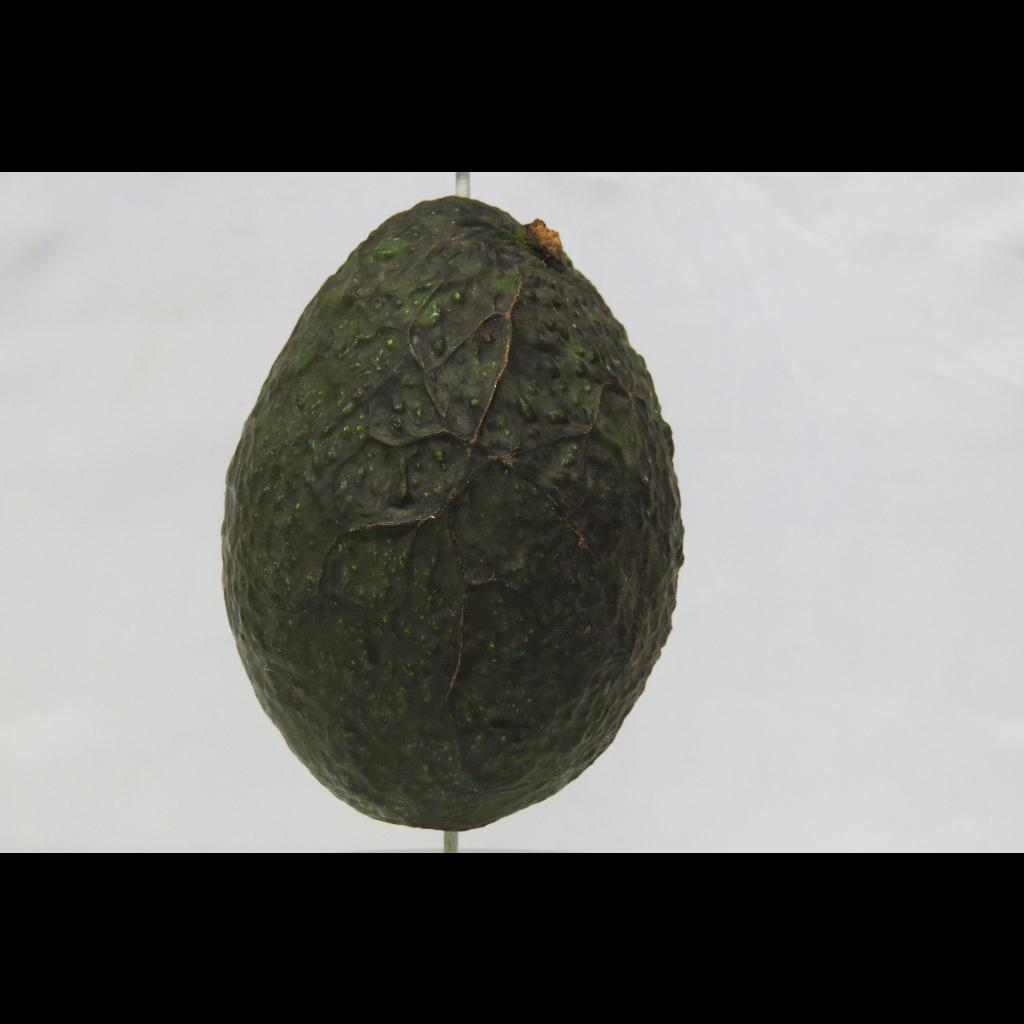Healthy: (166, 180, 744, 850)
